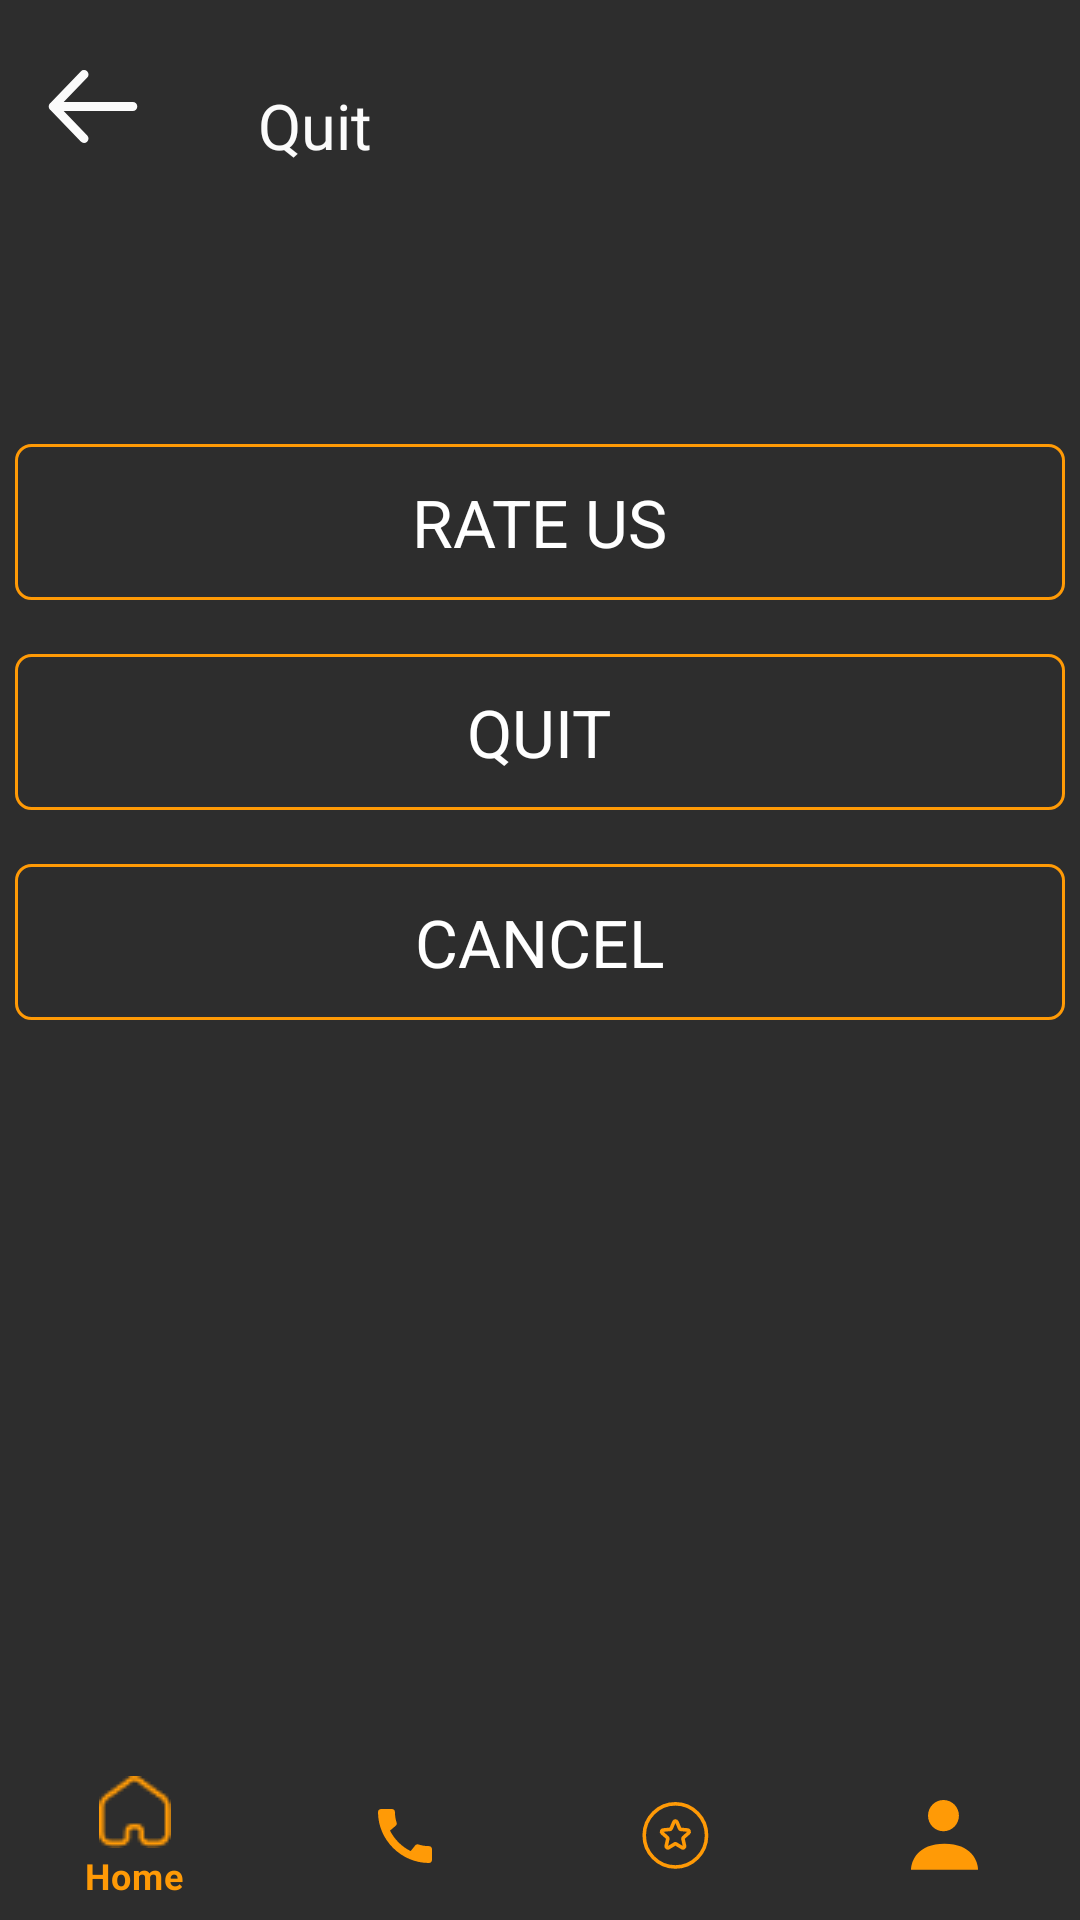

Icons on this 1080 × 1920 Android screen, each with its box as (x1, y1, x2, y2):
back: (48, 70, 138, 143)
